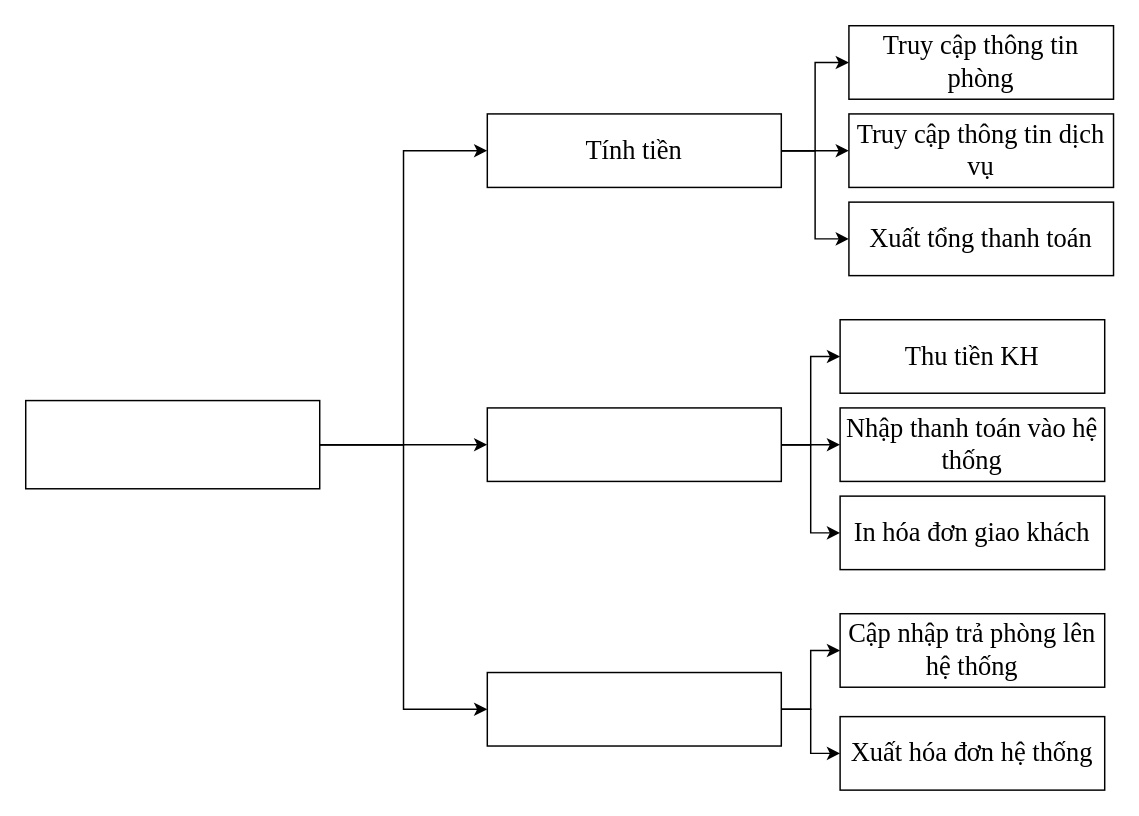
Image size: 1139x816. Some labels were removed from this diagram. Each missing label, with the centre of its shape:
Nhập thanh toán: (633,443)
Thu Ngân: (172,444)
Trả phòng, xuất hóa đơn: (633,708)
